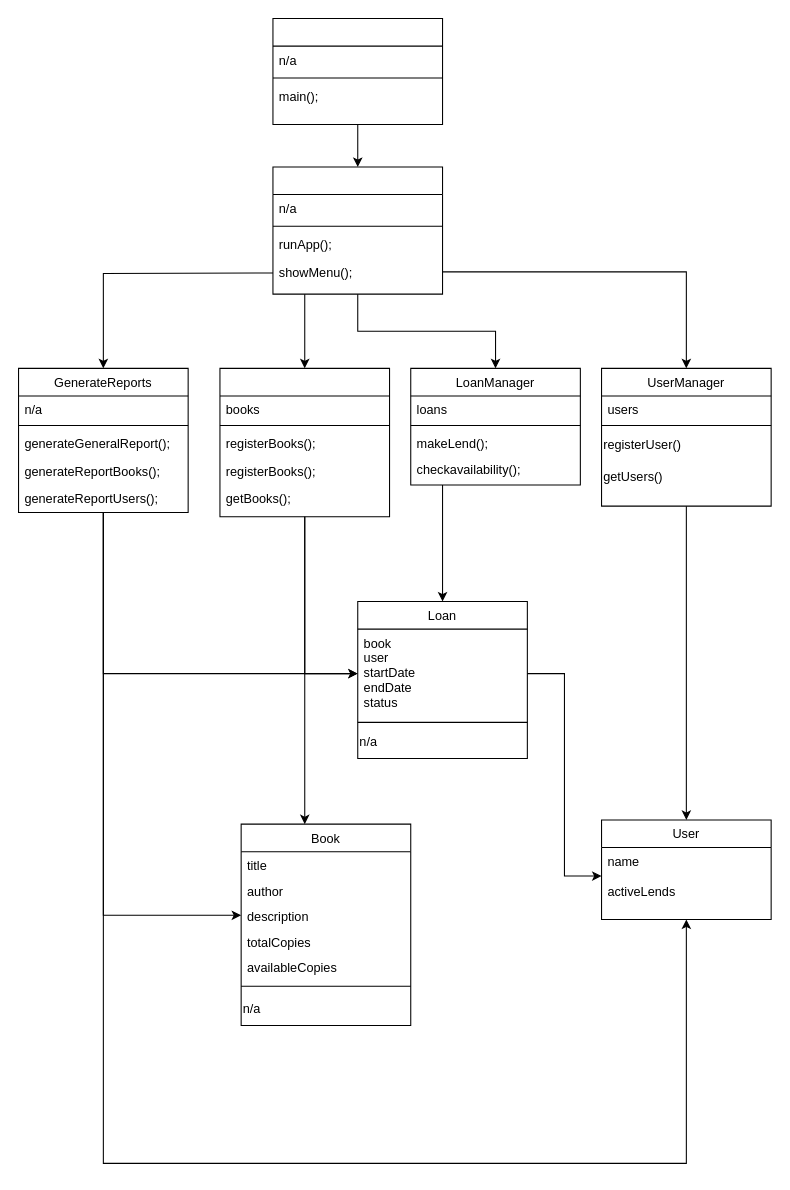
The diagram is 790 pixels wide and 1190 high, and some of its shapes have lost their labels. The box of each missing label's shape, as (x1, y1, x2, y2) in pixels:
BookManager: (219, 367, 390, 517)
CLI: (272, 166, 443, 294)
Starter: (272, 17, 443, 125)
